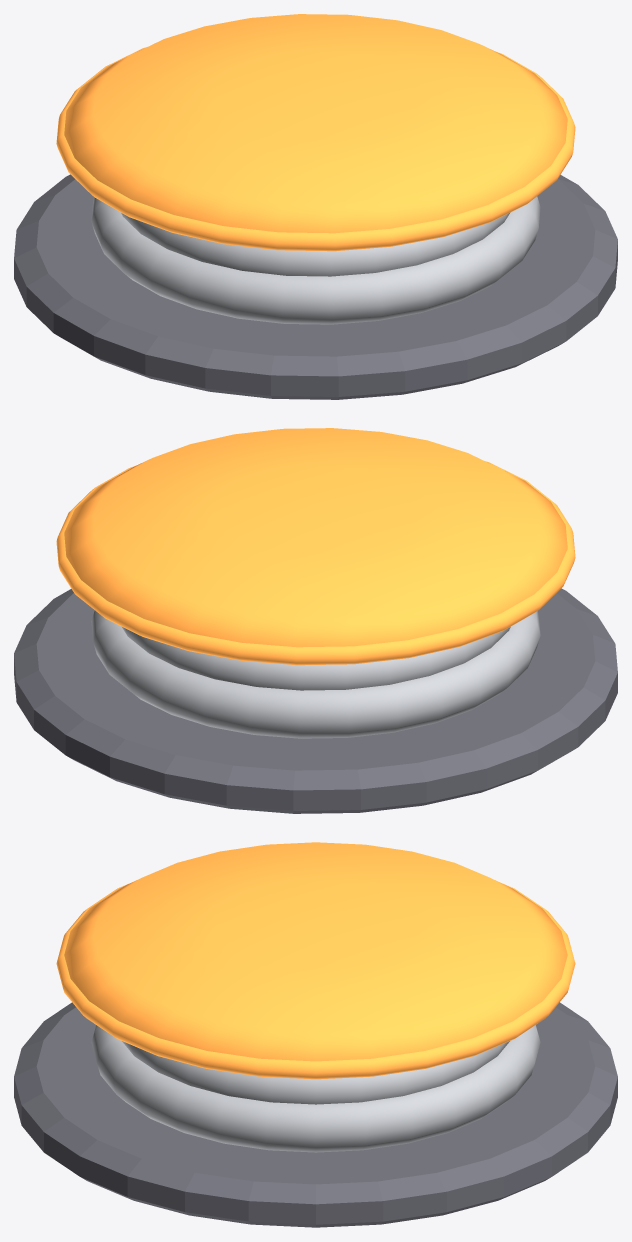
File: spring_pad.glb
3 views of the same model, one above another, from view 1: azimuth 30°, elevation 25°; view 2: azimuth 150°, elevation 25°; view 3: azimuth 270°, elevation 25° (orthographic).
Parts seen in each view (by area): view 1: Pad, Base, Coil1; view 2: Pad, Base, Coil1; view 3: Pad, Base, Coil1.
Part boxes in pixels (x1=…): Pad: x1=56, y1=14, x2=575, y2=251; Base: x1=14, y1=174, x2=617, y2=399; Coil1: x1=91, y1=196, x2=540, y2=324; Pad: x1=56, y1=428, x2=575, y2=665; Base: x1=14, y1=588, x2=617, y2=813; Coil1: x1=91, y1=610, x2=540, y2=738; Pad: x1=56, y1=842, x2=575, y2=1079; Base: x1=14, y1=1002, x2=617, y2=1227; Coil1: x1=91, y1=1025, x2=540, y2=1152.
Bounding box in the file's own units: 3.2 × 1.08 × 3.2.
